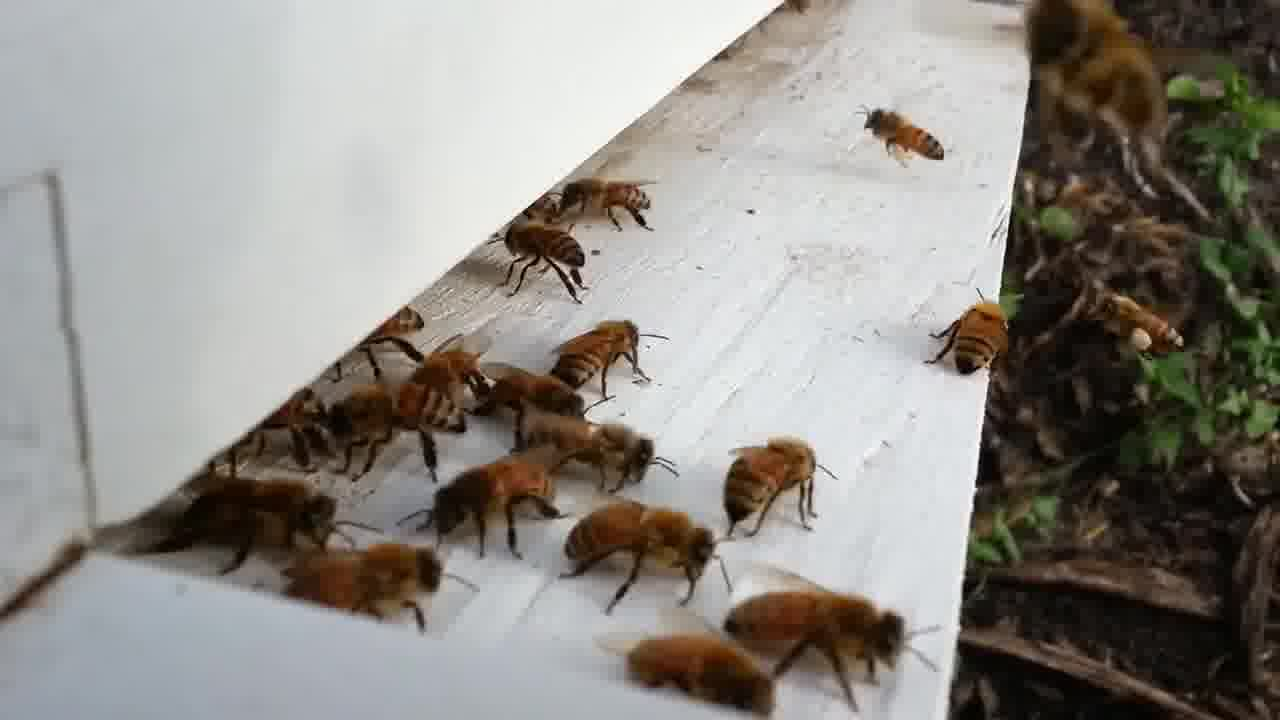pollen: (861, 104, 949, 169), (1095, 288, 1181, 353)
